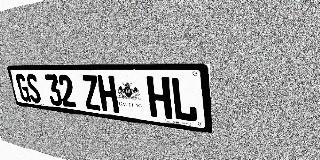2: (57, 75, 77, 108)
3: (44, 74, 63, 106)
G: (15, 74, 31, 102)
H: (146, 76, 172, 119), (97, 75, 119, 113)
L: (170, 77, 198, 123)
S: (25, 74, 42, 104)
Z: (81, 75, 102, 111)
